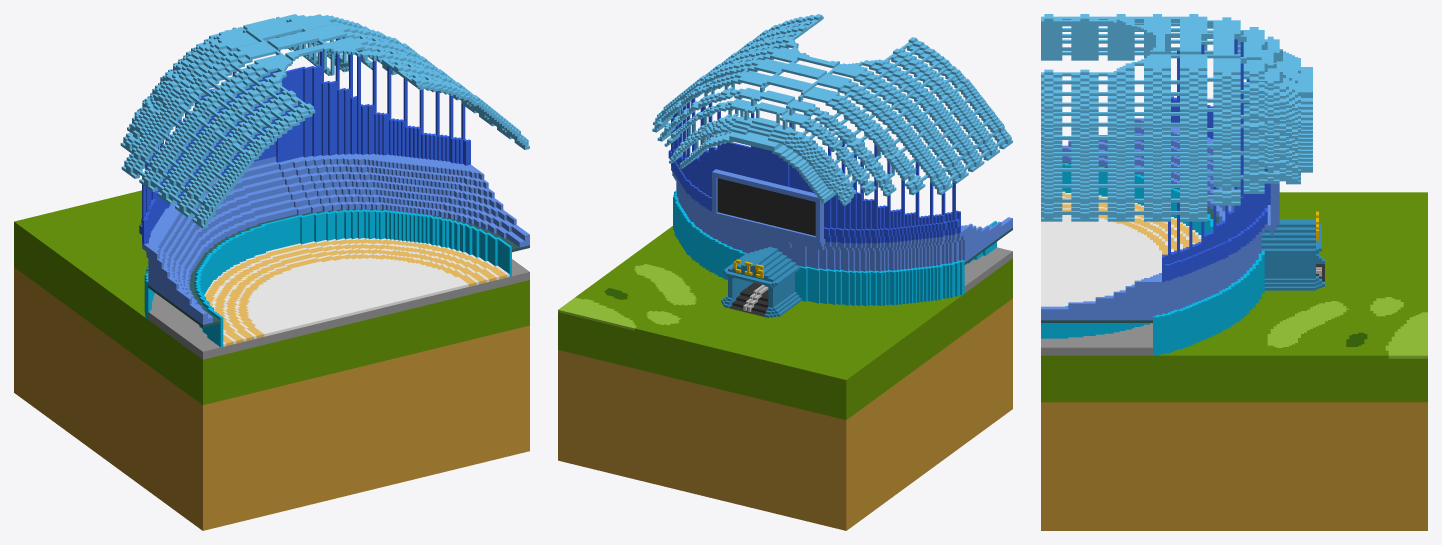
The picture shows the model from 3 angles, left to right: view 1: azimuth 30°, elevation 25°; view 2: azimuth 150°, elevation 25°; view 3: azimuth 270°, elevation 25°; orthographic projection. The views are drawn at different scales.
Visible parts, largest first — view 1: 4L-7; view 2: 4L-7; view 3: 4L-7.
Part boxes in pixels (x1,y1,x2,y2): 4L-7: (14, 14, 529, 530); 4L-7: (558, 14, 1012, 530); 4L-7: (1041, 14, 1427, 530).
Bounding box in the file's own units: 12.8 × 14.9 × 12.8.
Materials: 1 (1 with a texture image).
